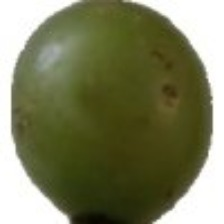grapes: (42, 2, 213, 190)
